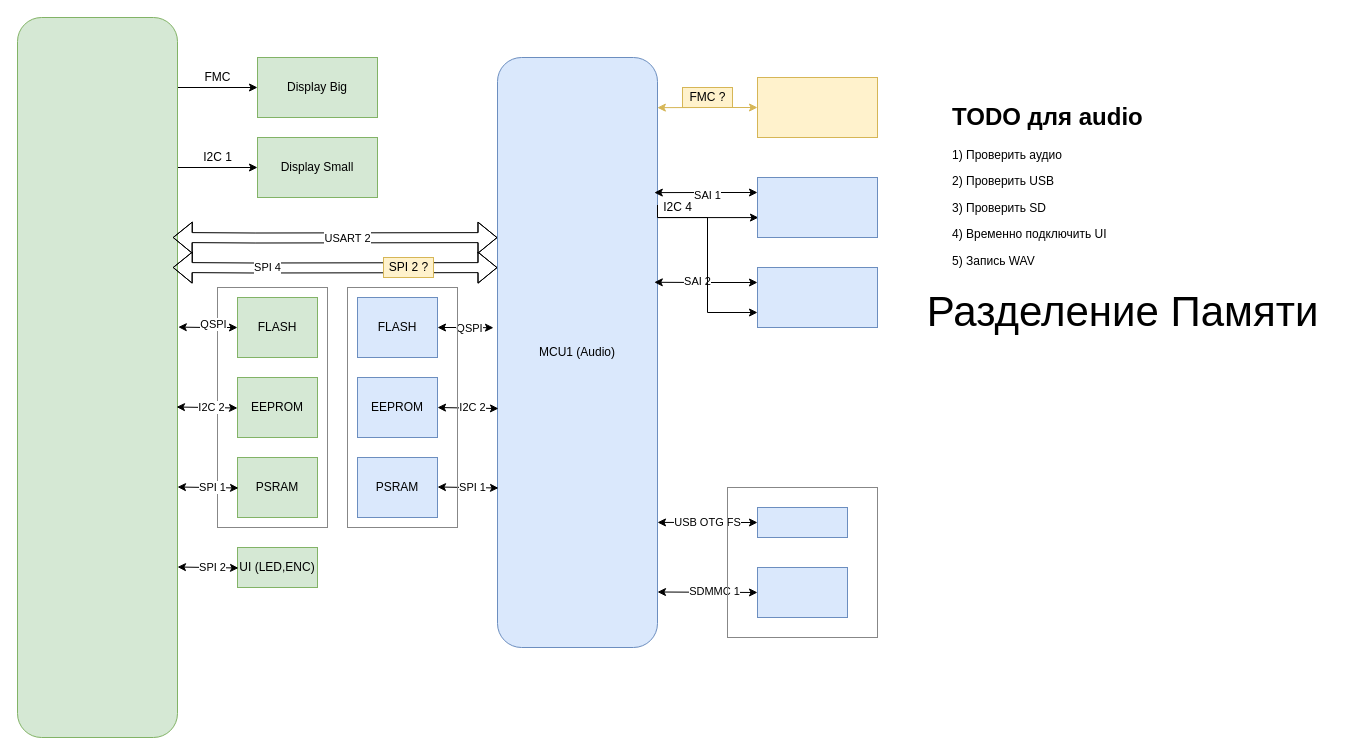
Some shapes in this 1345 by 755 pixel diagram are drawn without their labels. Each missing label, with the centre of its shape:
Codec 1: (x=817, y=207)
Codec 2: (x=817, y=297)
MCU2 (Graphical): (x=97, y=377)
SD: (x=802, y=592)
SRAM ?: (x=817, y=107)
USB Device: (x=802, y=522)
